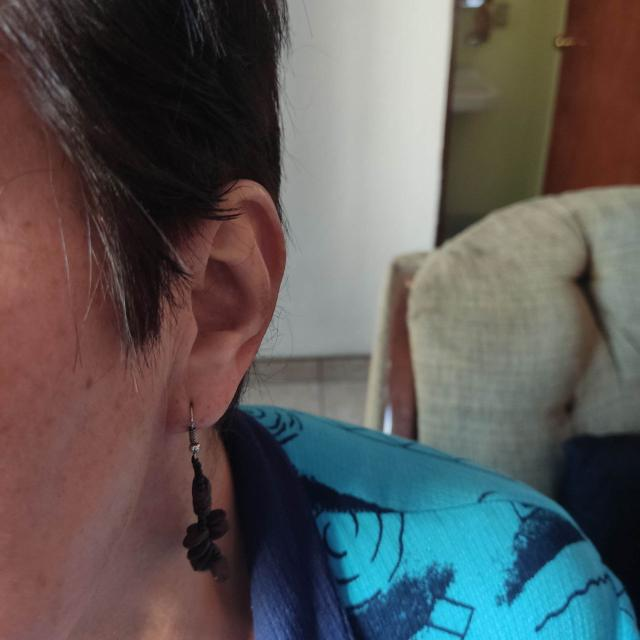ear: (165, 182, 285, 434)
